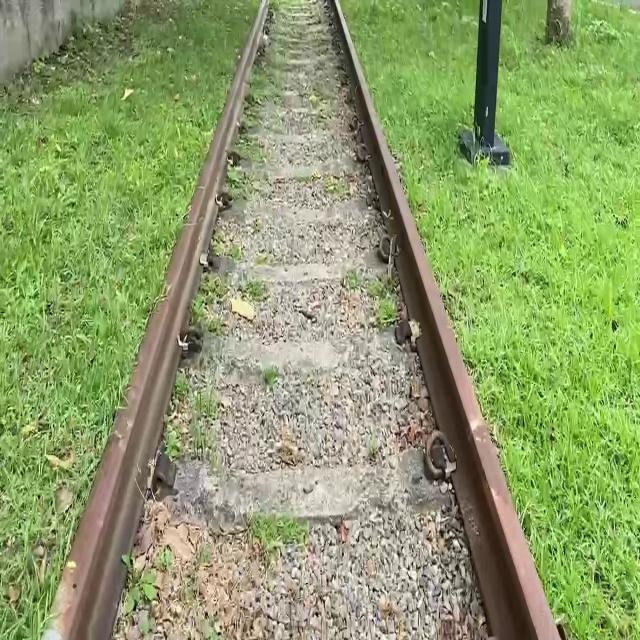rail-track: (114, 0, 488, 639)
